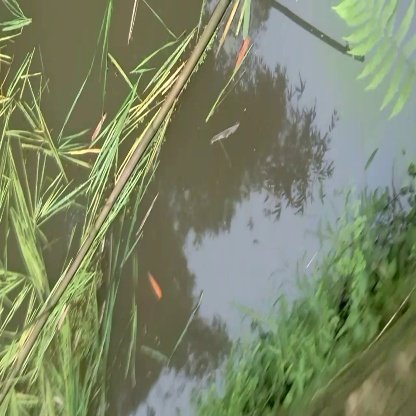branch: (1, 119, 159, 407)
